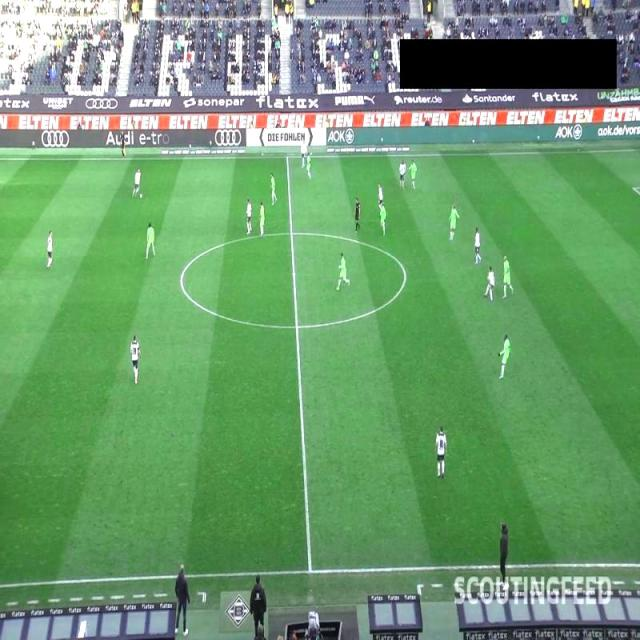bigarea_top_inner: (629, 182, 640, 192)
halfcircle_bottom: (290, 321, 301, 332)
halfcircle_top: (286, 227, 296, 238)
midline_bottom_intersection: (303, 563, 318, 579)
midline_top_intersection: (281, 150, 292, 162)
